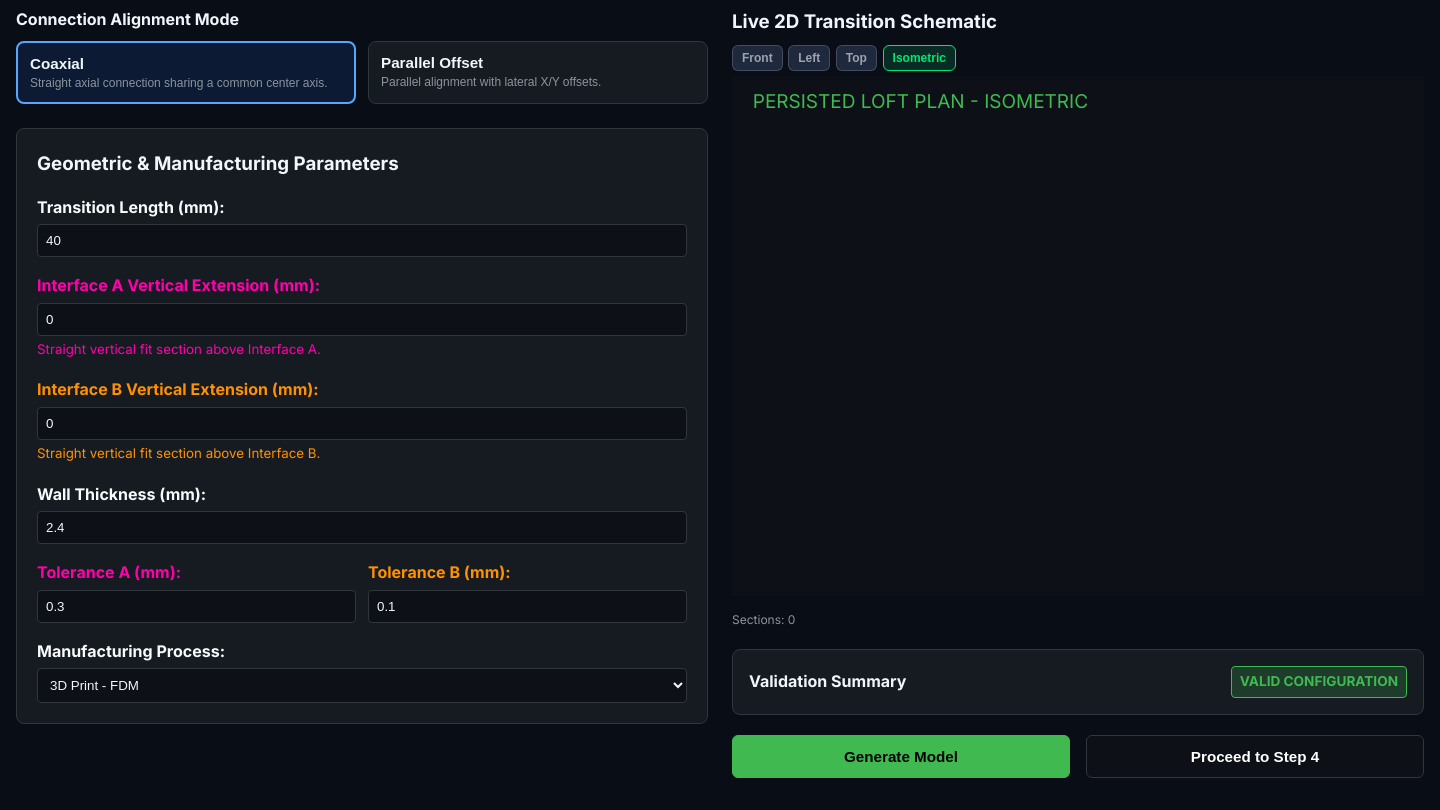
Test: ConnectionConfigPage Component (Stage S4C) › displays VALID WITH WARNINGS badge and warning message without error code ID when warnings exist
This screenshot has width=1440, height=810.
(page scrolled)
What coordinates should you click on to do the following:
click the button "Generate Model"
I would click on:
 (901, 756)
Its box is [732,735,1070,778].
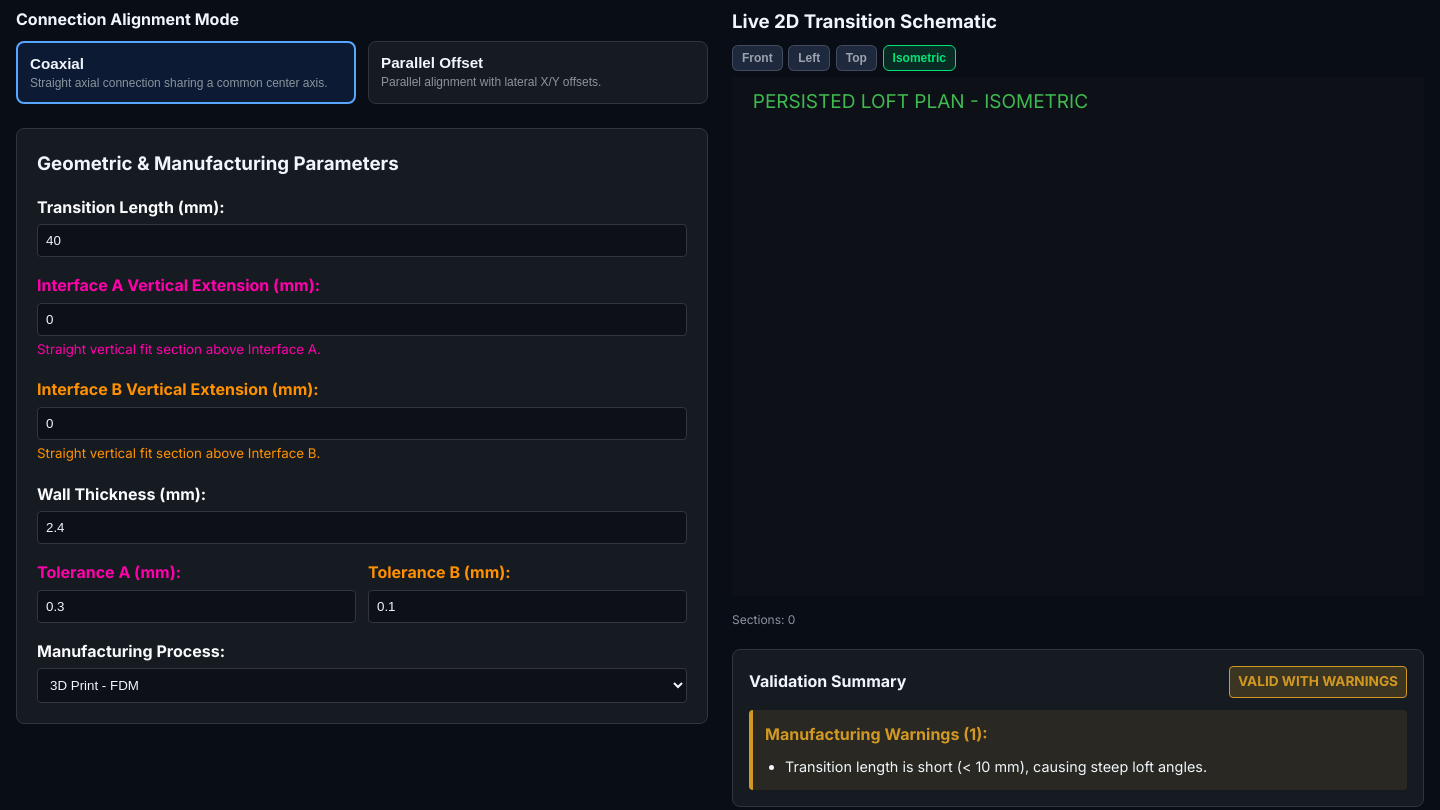
Check: the text "VALID WITH WARNINGS" is shown, box [1229,666,1407,698]
Check: the list item "Transition length is short (< 10 mm), causing steep loft angles." is shown, box [785,758,1207,775]
